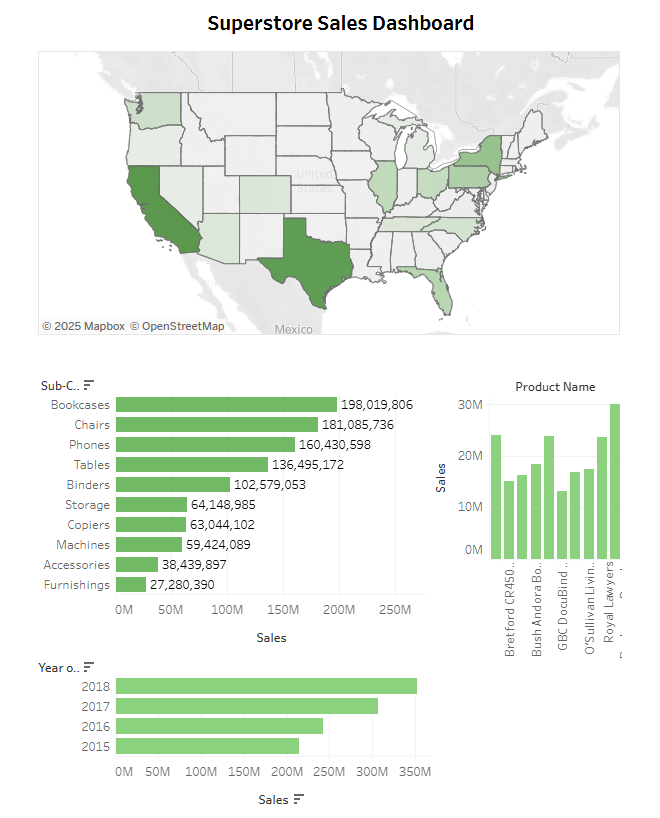

The dashboard page shown, as its layout file describes it:
{"tool":"tableau","page":{"name":"Dashboard 1","canvas":[650,860],"ordinal":0},"visuals":[{"type":"text","box":[161,25,342,46]},{"type":"worksheet","title":"Sheet 4","mark":"Automatic","box":[29,78,582,286]},{"type":"worksheet","title":"Sheet 3","mark":"Automatic","rows":["Sub-Category"],"cols":["Sales"],"box":[26,403,393,286]},{"type":"worksheet","title":"Sheet 2","mark":"Automatic","rows":["Sales"],"cols":["Product Name"],"box":[416,405,197,286]}]}

Visuals, with their boxes on the page's 650x860 design canvas (x1, y1, x2, y2). These are canvas units, not pixel positions in the 660x818 screenshot, which may show the page scaled, cropped or inside an application window:
text: 161 25 503 71
"Sheet 4" worksheet: 29 78 611 364
"Sheet 3" worksheet: 26 403 419 689
"Sheet 2" worksheet: 416 405 613 691
